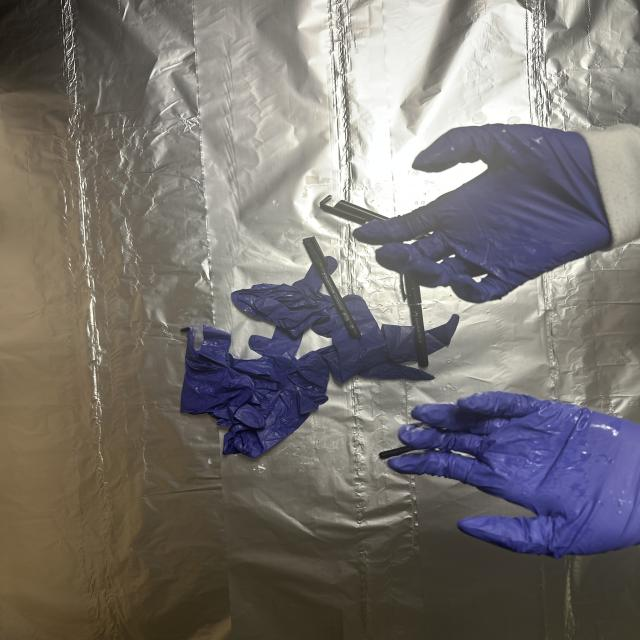gloves_contaminated: (354, 125, 612, 303), (388, 392, 640, 558)
